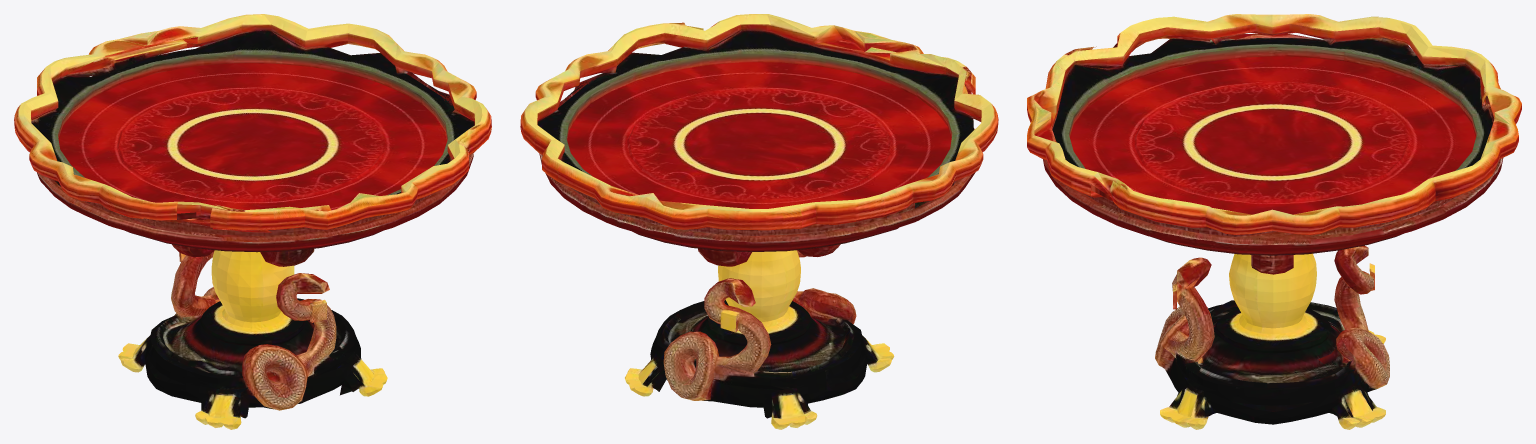
File: table_jade.glb
3 views of the same model, side by side, from view 1: azimuth 30°, elevation 25°; view 2: azimuth 150°, elevation 25°; view 3: azimuth 270°, elevation 25° (orthographic). The views are drawn at different scales.
Parts seen in each view (by area): view 1: mesh_node; view 2: mesh_node; view 3: mesh_node.
Part boxes in pixels (x1,y1,x2,y2): mesh_node: (14, 14, 491, 429); mesh_node: (520, 14, 998, 429); mesh_node: (1027, 14, 1521, 429).
Bounding box in the file's own units: 1.9 × 1.19 × 1.91.
Materials: 1 (1 with a texture image).
